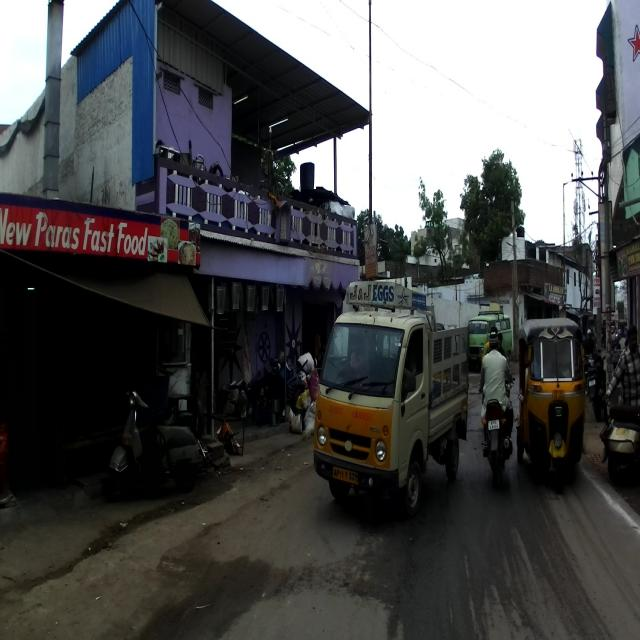autorickshaw: (514, 315, 586, 493)
motorcycle: (477, 386, 515, 492)
scooter: (104, 386, 207, 502), (598, 400, 640, 485)
truck: (313, 280, 469, 516)
